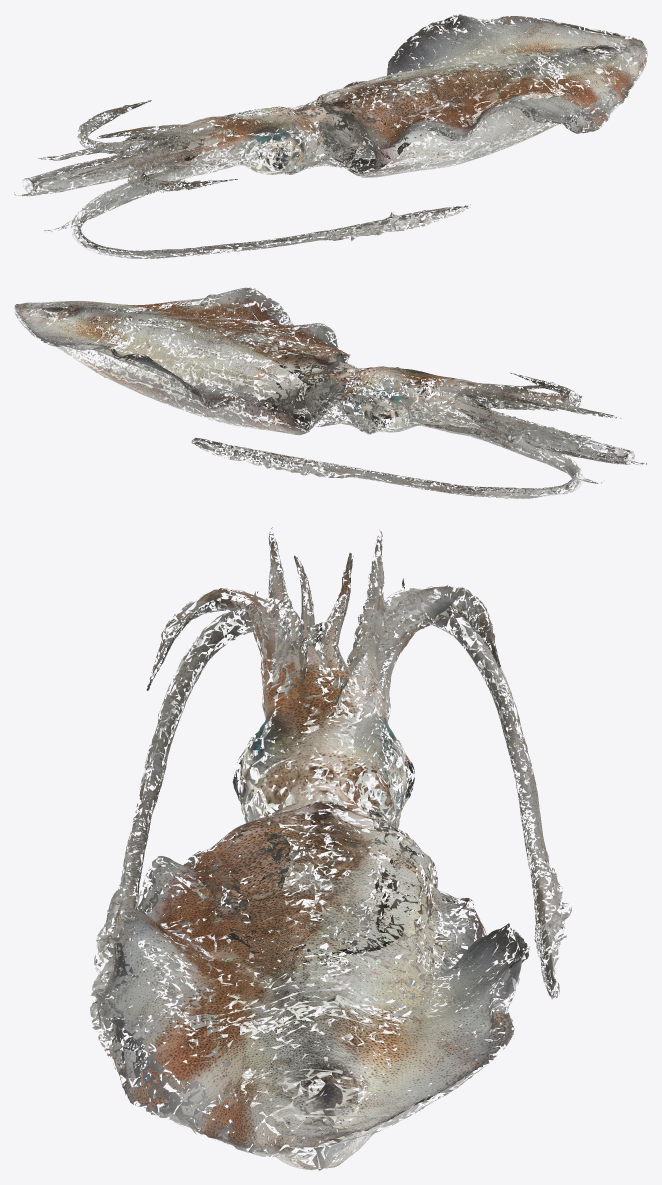
Rendered from bigfin_squid.glb.
3 renders of one model, top to bottom at view 1: azimuth 30°, elevation 25°; view 2: azimuth 150°, elevation 25°; view 3: azimuth 270°, elevation 25°, orthographic. The views are drawn at different scales.
Parts seen in each view (by area): view 1: Object_18, Object_30, Object_6; view 2: Object_18, Object_6, Object_30; view 3: Object_30, Object_18, Object_6.
Boxes of the visible parts, <box> form: Object_18: <box>15,15,647,258</box>; Object_30: <box>22,14,647,258</box>; Object_6: <box>14,15,647,258</box>; Object_18: <box>14,287,646,497</box>; Object_6: <box>14,287,646,498</box>; Object_30: <box>15,287,646,498</box>; Object_30: <box>90,527,571,1170</box>; Object_18: <box>92,531,570,1169</box>; Object_6: <box>94,531,565,1163</box>.
Size of the model in its own units: 17.99 by 3.12 by 6.13.
3 materials, 3 textured.
